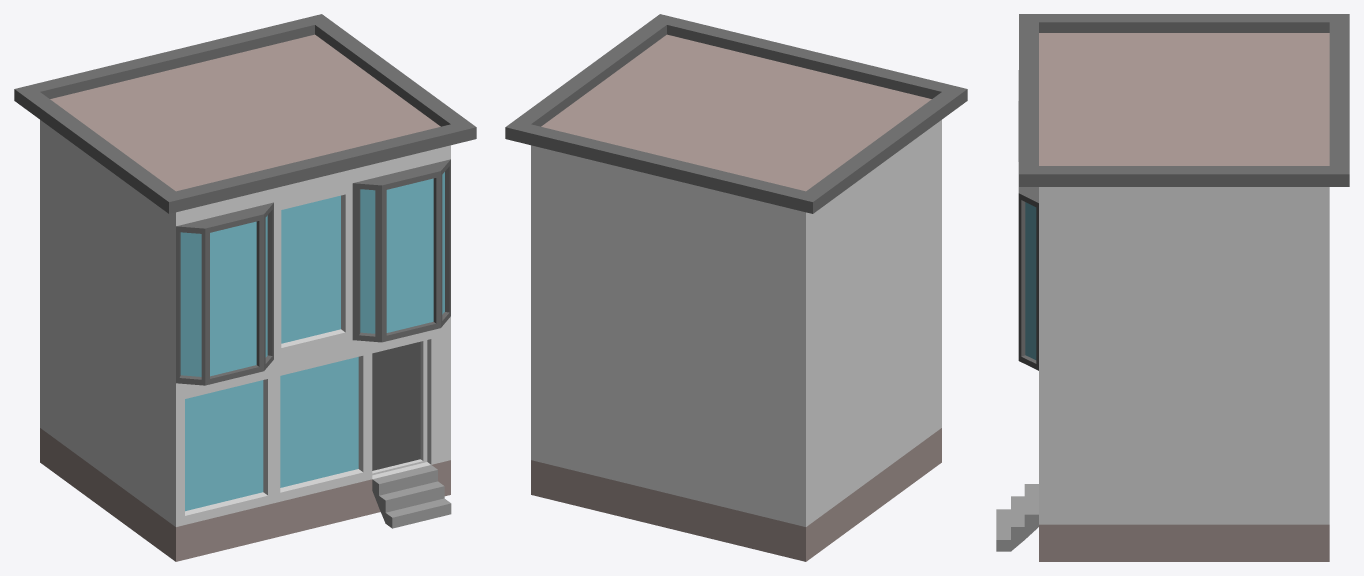
The model's file is Building6.fbx.
3 views of the same model, side by side, from view 1: azimuth 30°, elevation 25°; view 2: azimuth 150°, elevation 25°; view 3: azimuth 270°, elevation 25° (orthographic). The views are drawn at different scales.
Parts seen in each view (by area): view 1: pCube6; view 2: pCube6; view 3: pCube6.
Boxes of the visible parts, box(x1,y1,x2,y2) form: pCube6: box(14, 14, 476, 561); pCube6: box(505, 14, 967, 561); pCube6: box(996, 14, 1349, 561).
Size of the model in its own units: 626 by 721 by 583.
